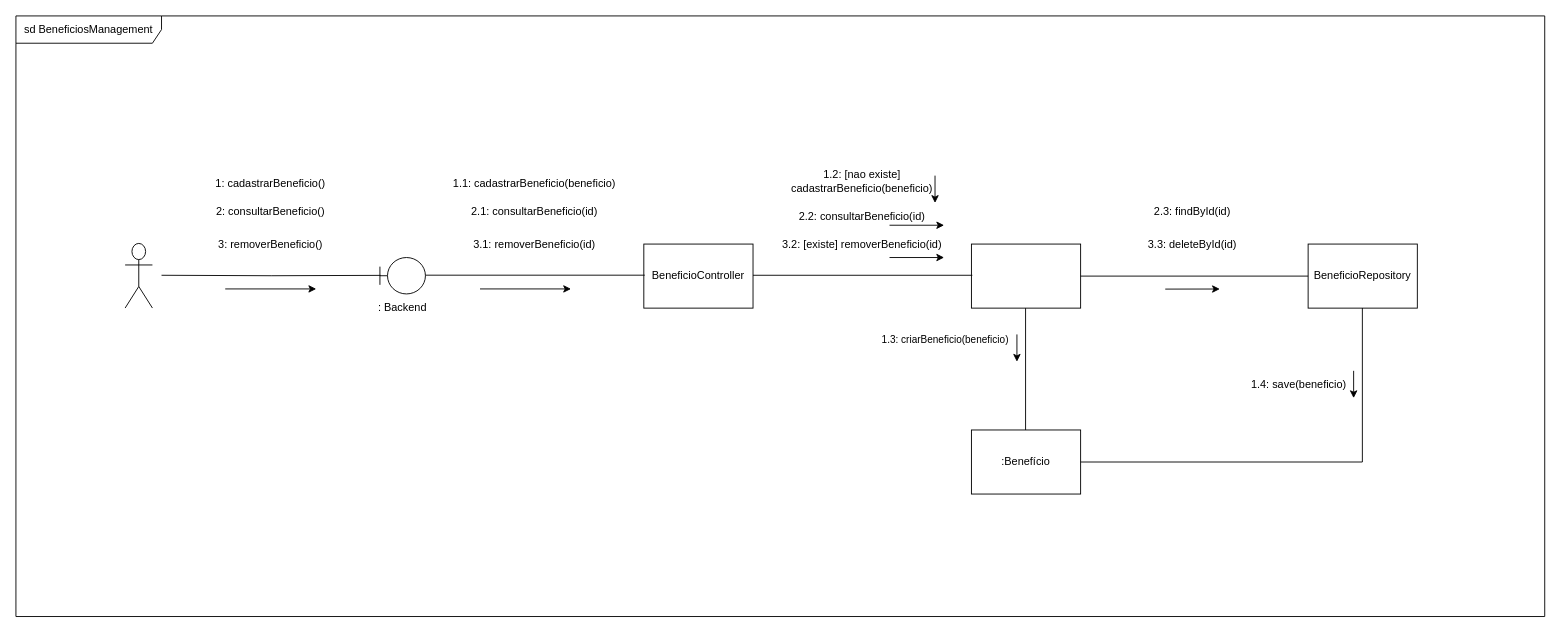
Image size: 1561x632. Some labels were removed from this diagram. Here are the shapes that lost their labels. From the top down, the centre of each, then its label:
At (x=138, y=275): "Empresa Parceira".
At (x=1026, y=275): "BeneficioService".
